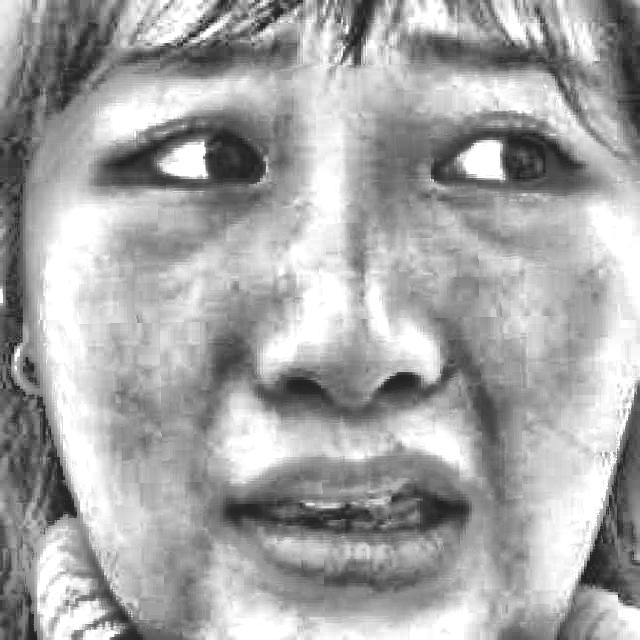fear: (63, 64, 616, 628)
